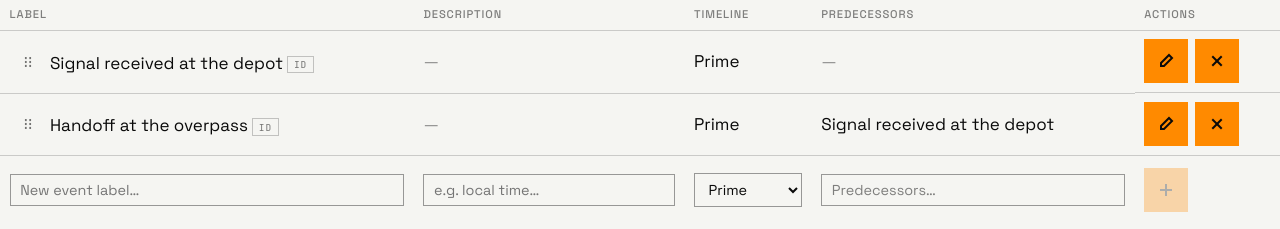
Test case: EventList — row-scoped independent editing › two rows can be edited simultaneously without losing either draft
Click the 1st button named "Edit event": click(1166, 61) [1144,39,1188,83]
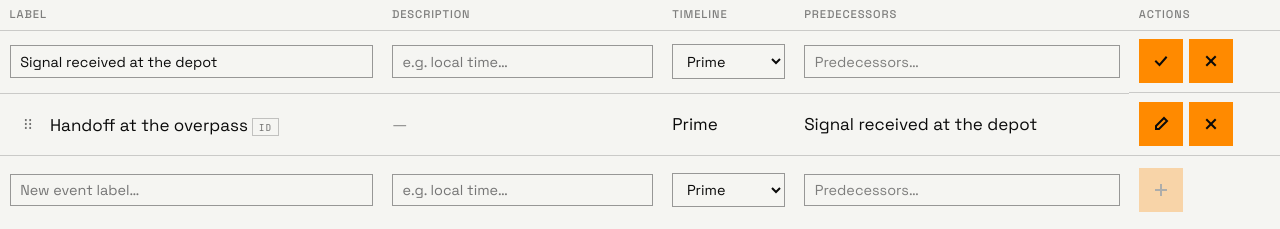
Click the button named "Edit event": click(1161, 124) [1139,102,1183,146]
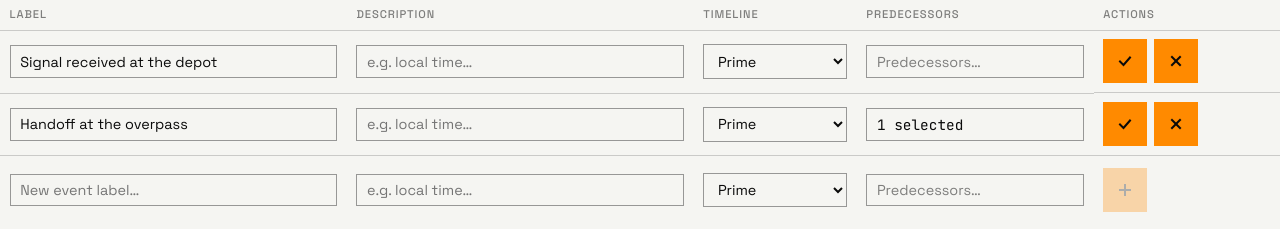
Expected: the 1st field is shown
Expected: the 3rd field is shown, [10,108,337,141]
Replace the text in the 1st field with "Row zero edited": (173, 62) [10,45,337,78]
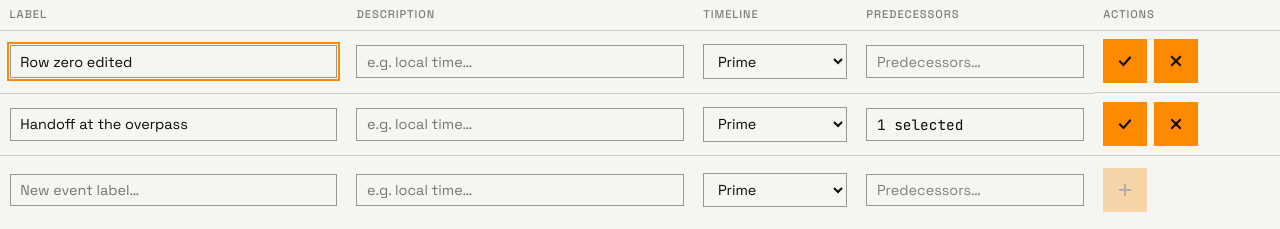
Replace the text in the 3rd field with "Row one edited": (173, 124) [10,108,337,141]
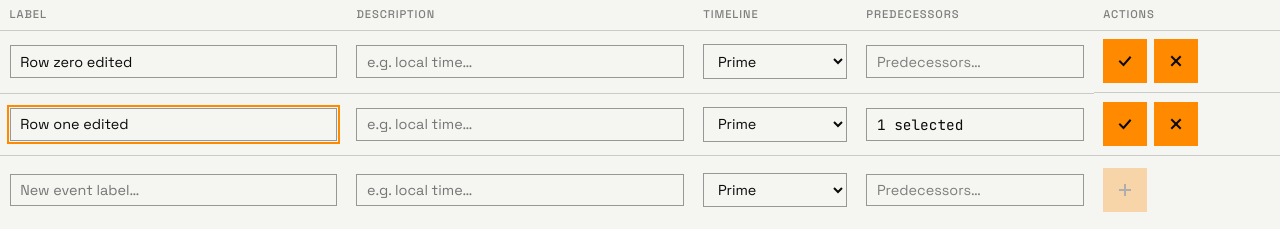
Click the 1st button named "Save event": click(1125, 61) [1103,39,1147,83]
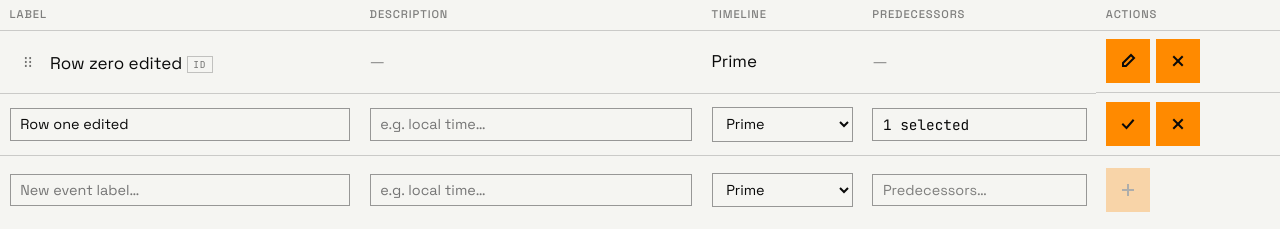
Click the button named "Save event": click(1128, 124) [1106,102,1150,146]
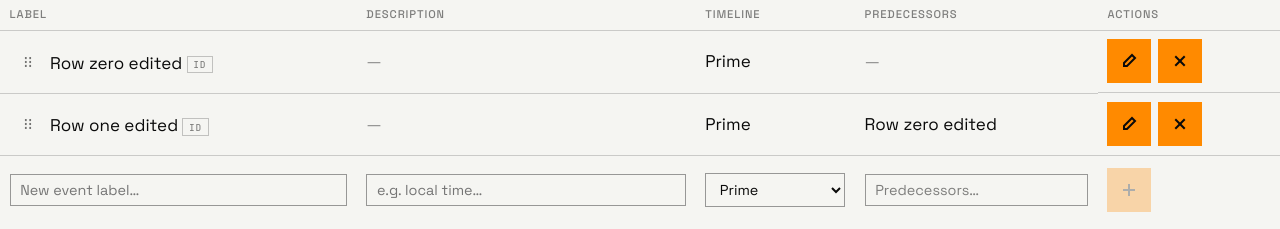
Expected: the row "Row zero edited ID — Prime —" is shown, [0,30,1279,93]
Expected: the row "Row one edited ID — Prime Row zero edited" is shown, [0,93,1279,156]
